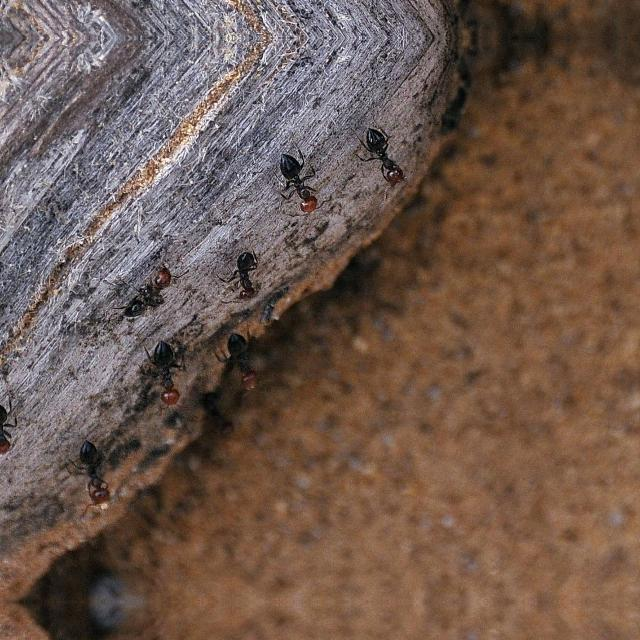Crematogaster: (64, 431, 120, 521), (131, 333, 183, 412), (356, 118, 412, 190), (268, 147, 326, 213), (116, 266, 178, 318), (220, 326, 258, 398), (226, 250, 260, 304), (0, 391, 24, 455)
